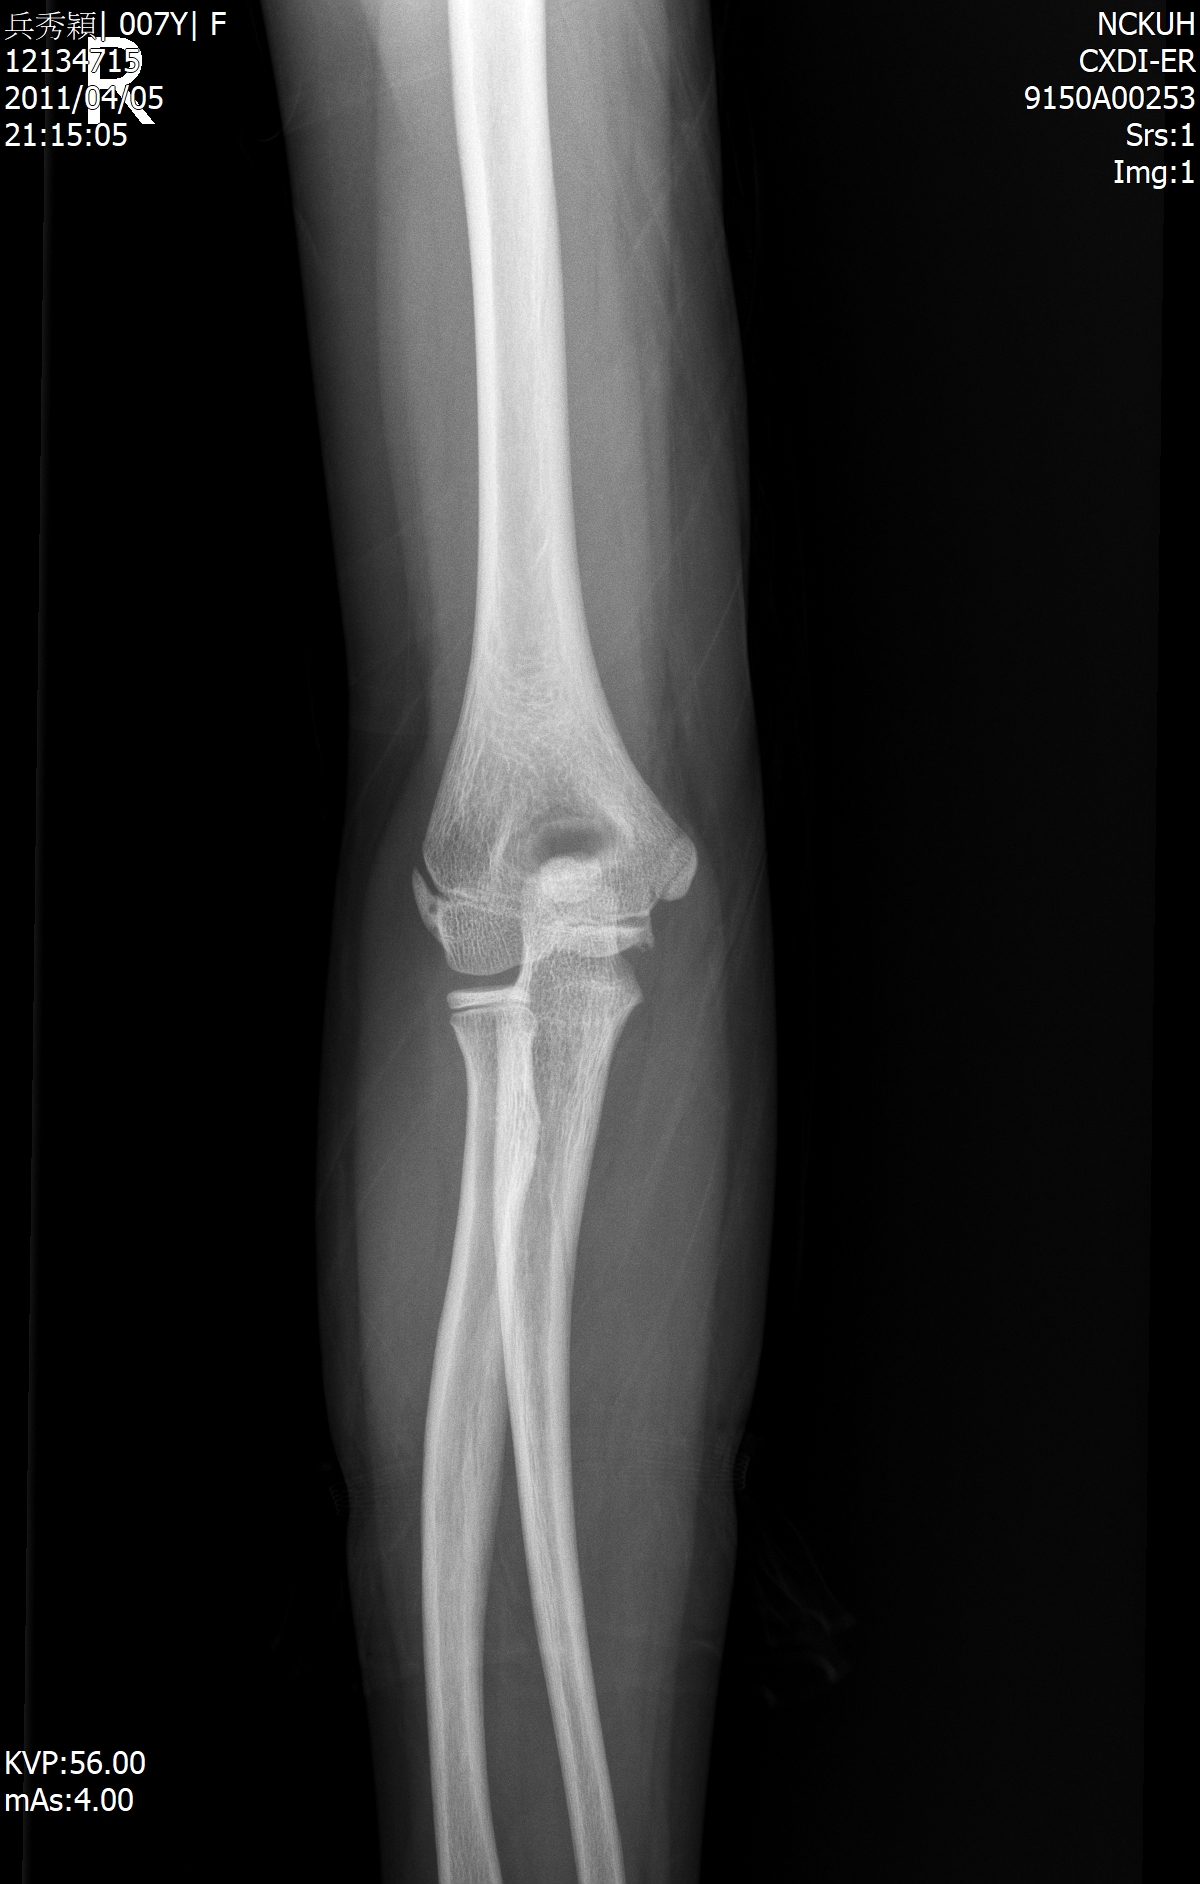Normal: (268, 614, 791, 1197)
